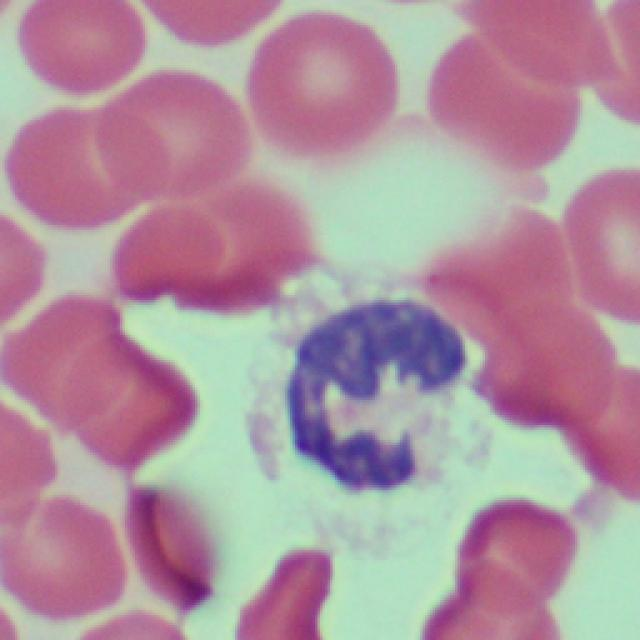RBC: (426, 5, 577, 199), (20, 308, 194, 468), (239, 3, 393, 169), (131, 188, 329, 310), (469, 276, 619, 428), (419, 489, 564, 639), (0, 93, 128, 239), (1, 500, 120, 624), (552, 162, 636, 325), (129, 472, 226, 612), (14, 2, 142, 104), (232, 537, 339, 640), (563, 364, 640, 500), (573, 1, 640, 123), (140, 0, 284, 49)
WBC: (245, 260, 495, 510)
